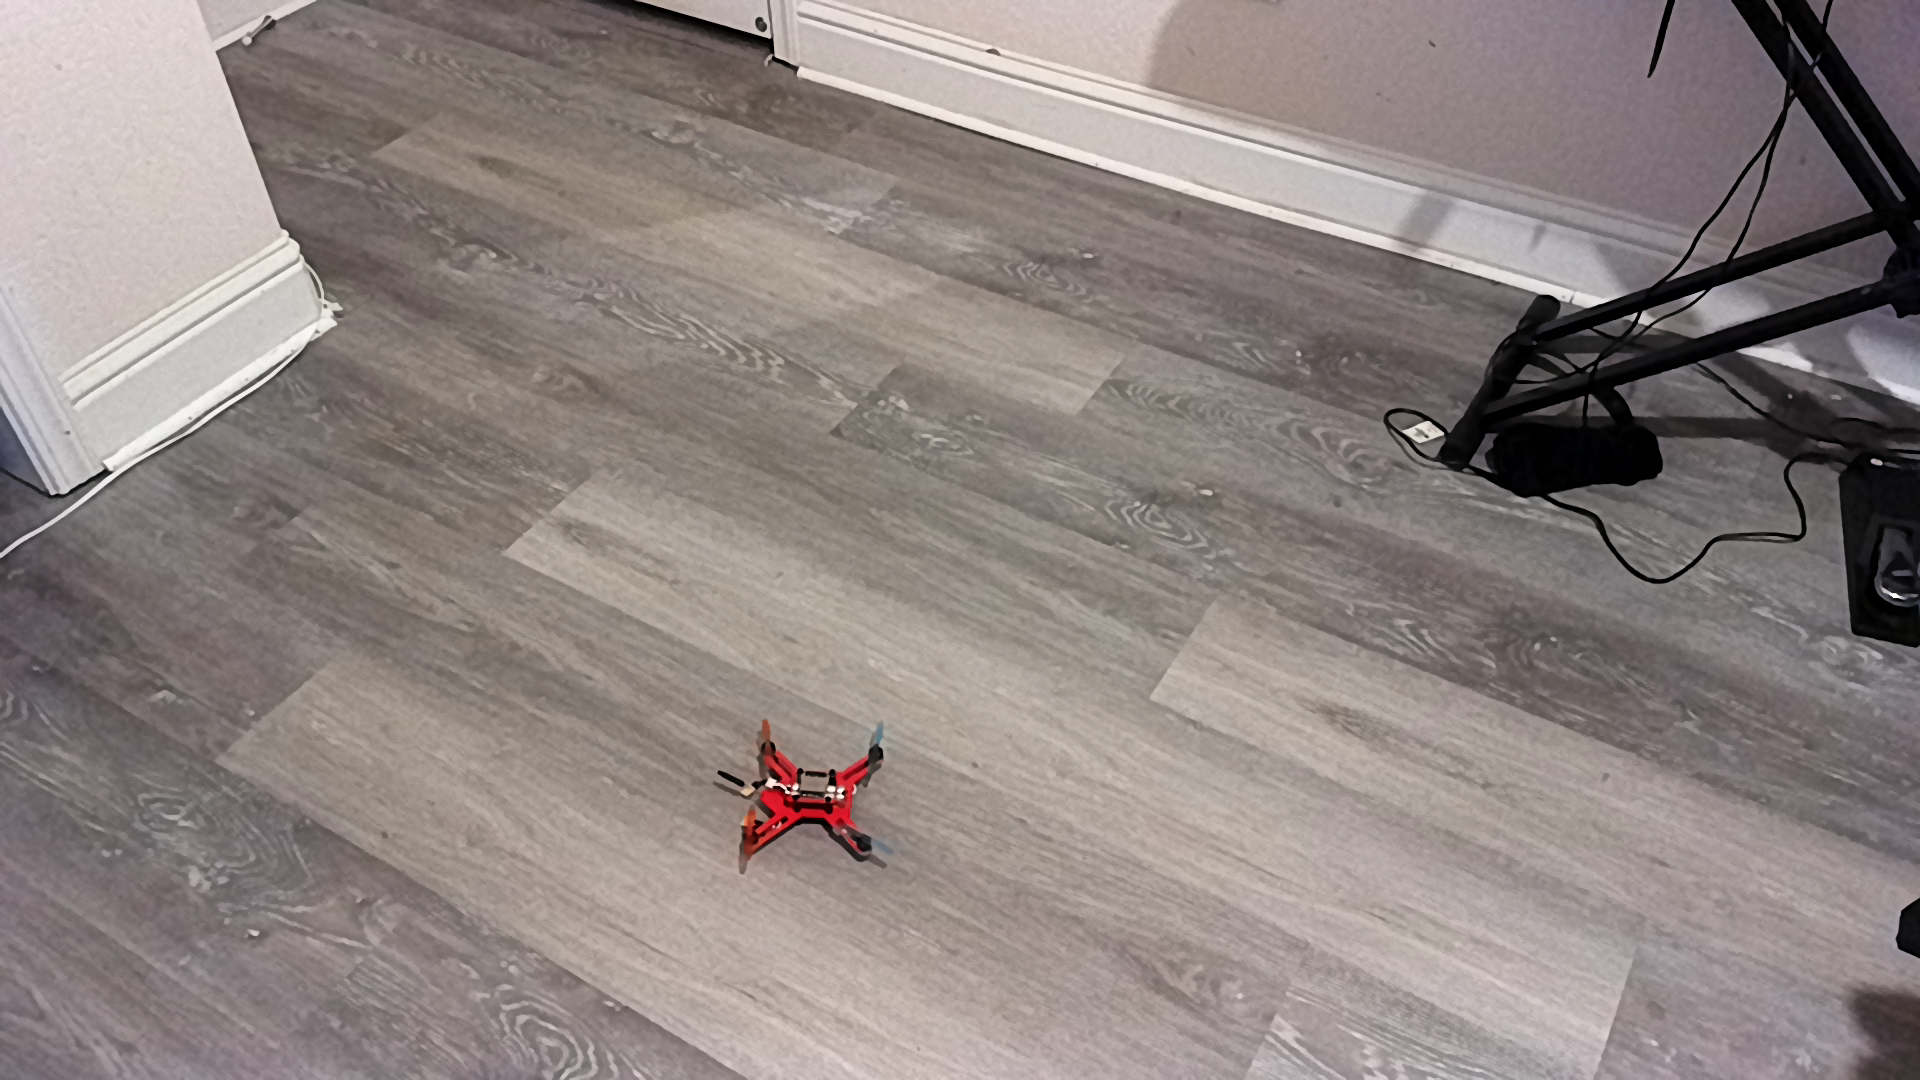drone: (712, 712, 936, 881)
